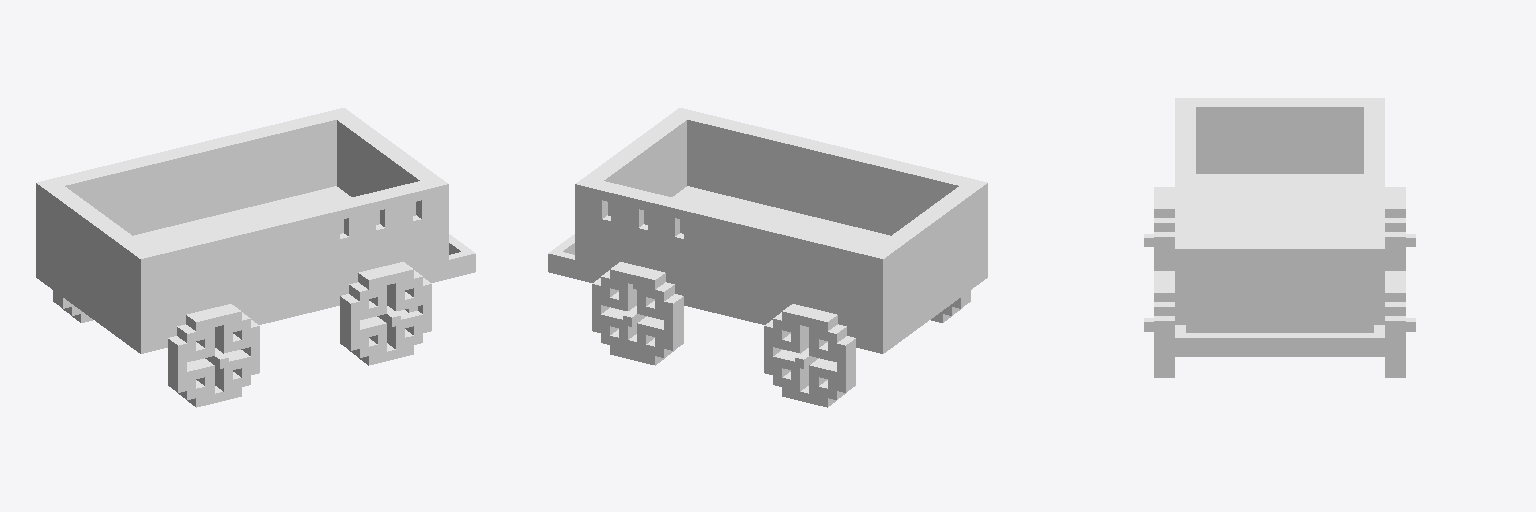
File: carriage.obj
3 views of the same model, side by side, from view 1: azimuth 30°, elevation 25°; view 2: azimuth 150°, elevation 25°; view 3: azimuth 270°, elevation 25° (orthographic).
Visible parts, largest first — view 1: object 1; view 2: object 1; view 3: object 1.
Part boxes in pixels (x1,y1,x2,y2): object 1: (36, 108, 475, 407); object 1: (548, 108, 987, 407); object 1: (1144, 98, 1415, 377).
Bounding box in the file's own units: 3.7 × 1.6 × 2.6.